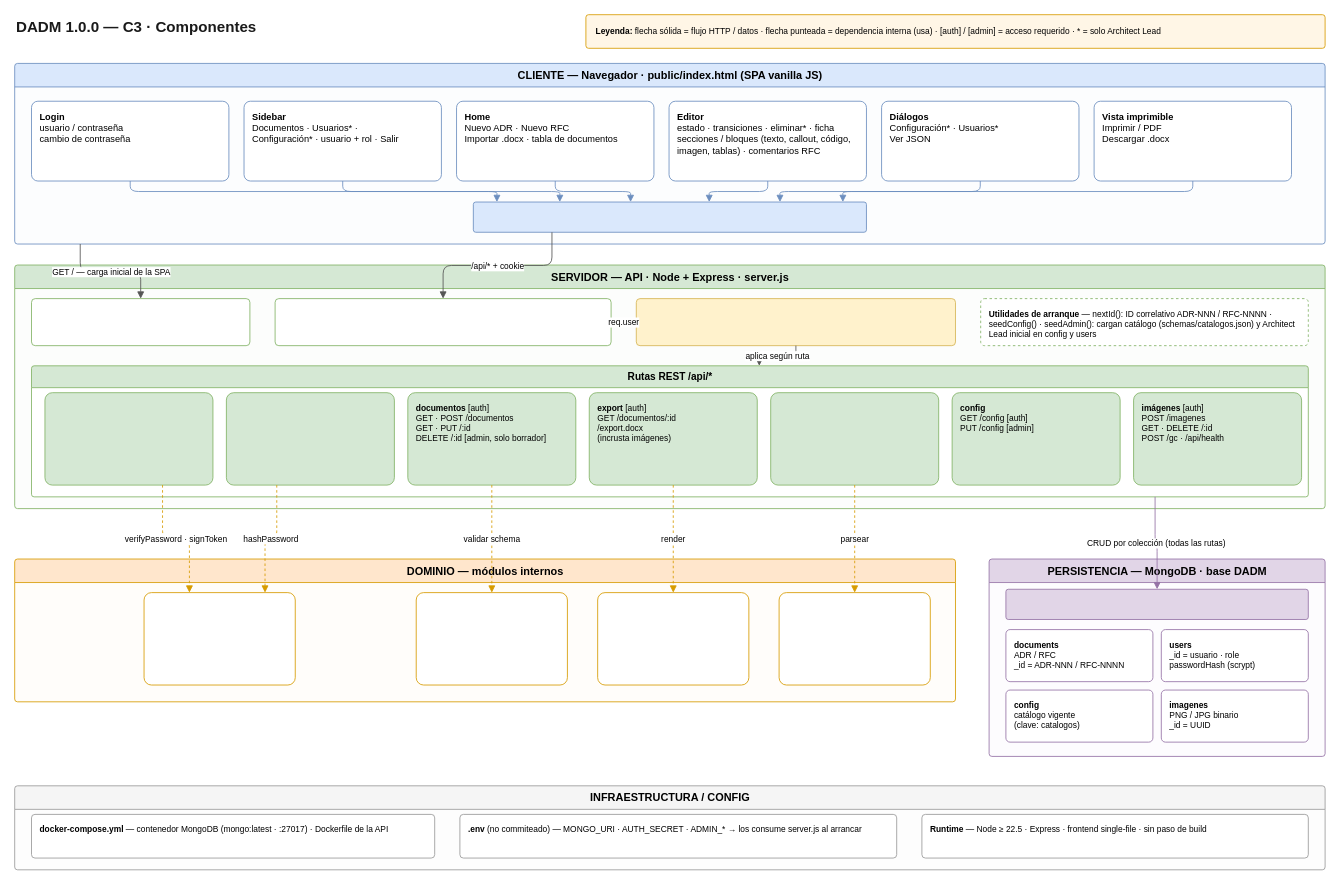
The diagram is 1340 pixels wide and 885 high, and some of its shapes have lost their labels. The shapes that lost their labels are listed below. From the top down, each one's centre as x and y in pixels, then its label:
At pixel 669 216: "api() — fetch JSON con cookie de sesión (dadm_token)".
At pixel 140 322: "express.static sirve public/ (la SPA)".
At pixel 442 322: "Middleware de sesión cookie dadm_token → verifyToken (auth.js) → req.user".
At pixel 795 322: "Guards requireAuth · requireAdmin (rol architect_lead)".
At pixel 128 438: "auth (público) POST /login · /logout GET /me POST /password [auth]".
At pixel 310 438: "usuarios [admin] GET · POST /usuarios PUT · DELETE /usuarios/:username".
At pixel 854 438: "importar [auth] POST /importar (.docx) (guarda imágenes y crea borrador)".
At pixel 1156 604: "db/mongo.js — conexión, índices y acceso a colecciones".
At pixel 219 638: "auth.js scrypt (hash de contraseñas) HMAC (token de sesión)".
At pixel 491 638: "Validación Ajv + schemas/ adr.schema · rfc.schema catalogos.json (seed)".
At pixel 673 638: "renderer.js JSON → .docx (lib docx)".
At pixel 854 638: "importer.js .docx → modelo (mammoth + html parser)".
